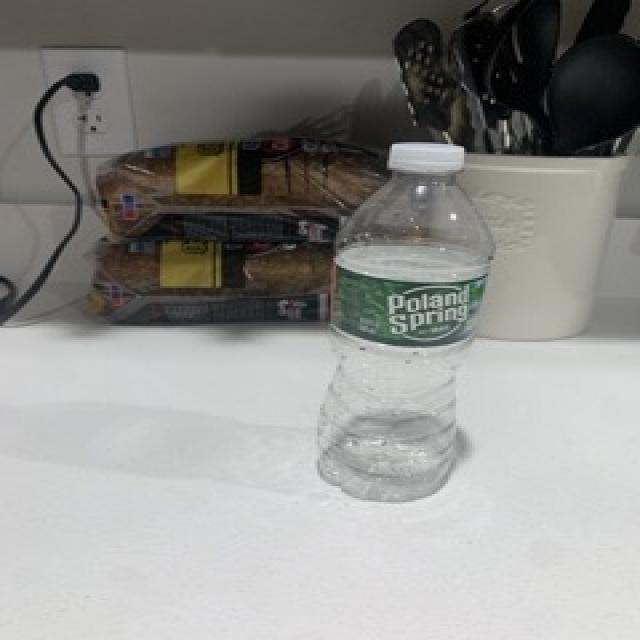water_bottle: (314, 140, 495, 507)
